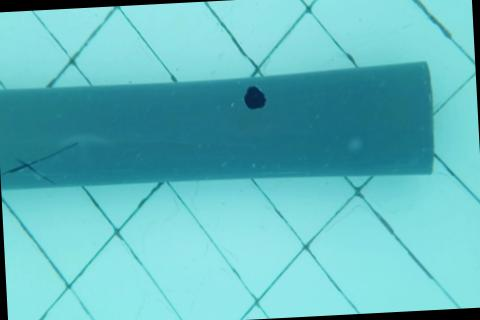kebocoran: (242, 83, 266, 113)
keretakan: (2, 140, 82, 186)
